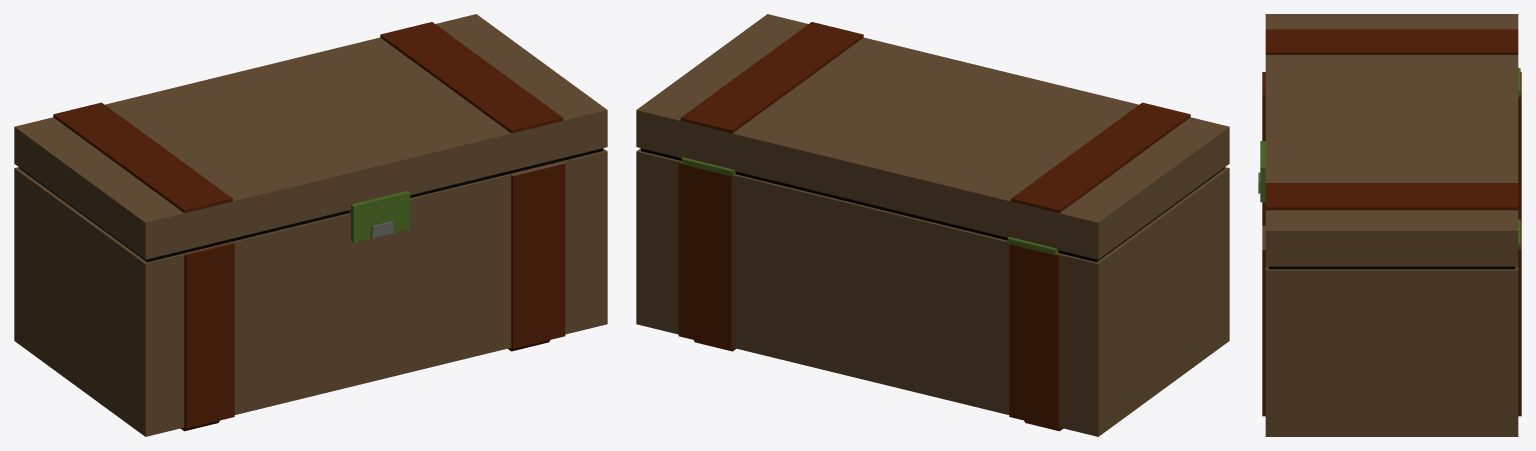
The model's file is Chest.fbx.
3 renders of one model, left to right at view 1: azimuth 30°, elevation 25°; view 2: azimuth 150°, elevation 25°; view 3: azimuth 270°, elevation 25°, orthographic. The views are drawn at different scales.
Parts seen in each view (by area): view 1: Chest; view 2: Chest; view 3: Chest.
Boxes of the visible parts, x1,y1,x2,y2 form: Chest: (14, 14, 607, 436); Chest: (636, 14, 1229, 436); Chest: (1258, 14, 1521, 436).
Size of the model in its own units: 560 by 264 by 287.
